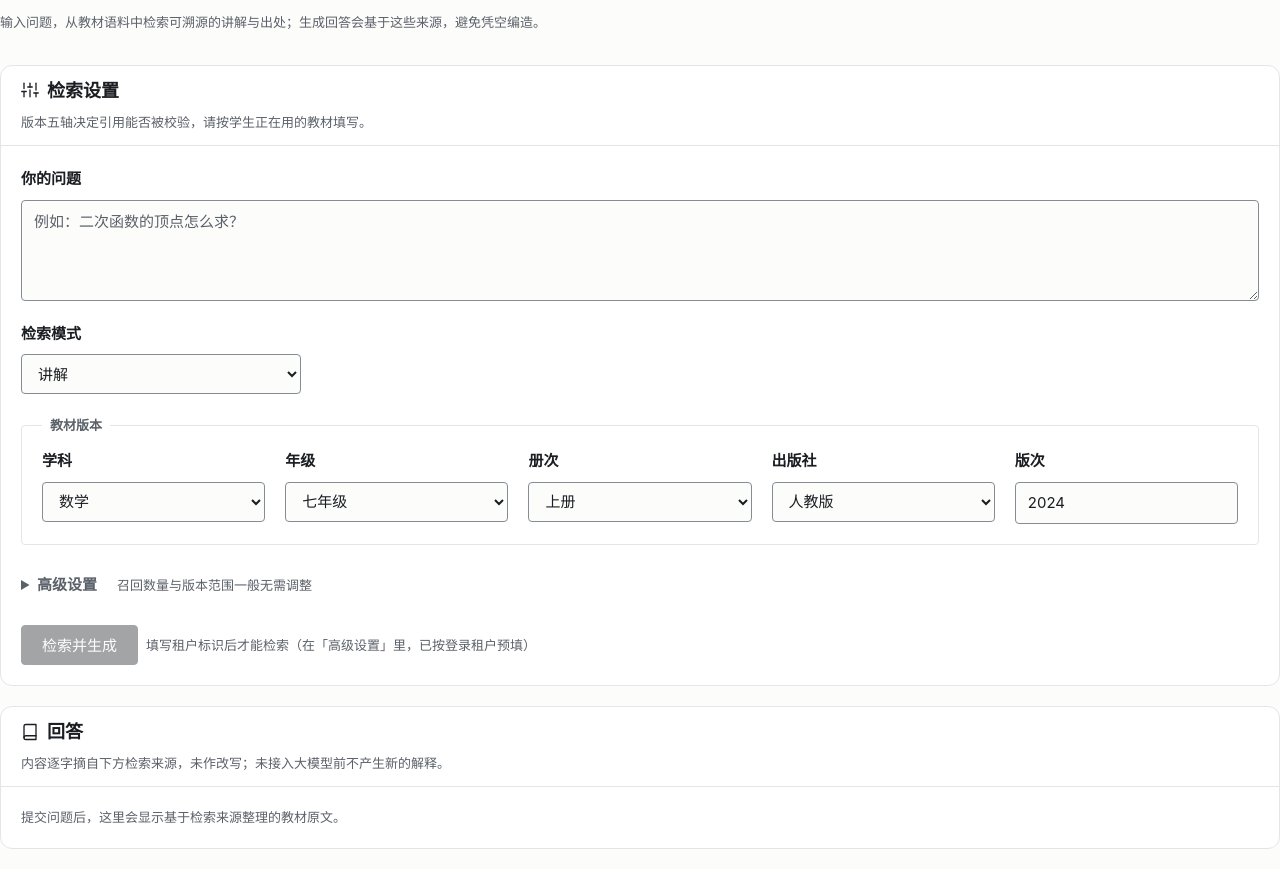
Test case: 知识检索页（FE-RAG 接线） › ⛔ 反证：改 mock 命中文本 → UI 必须跟着变
Type "直角三角形边长关系" into the text box labelled "你的问题" at {"x": 640, "y": 250}, box [21,200,1259,301]
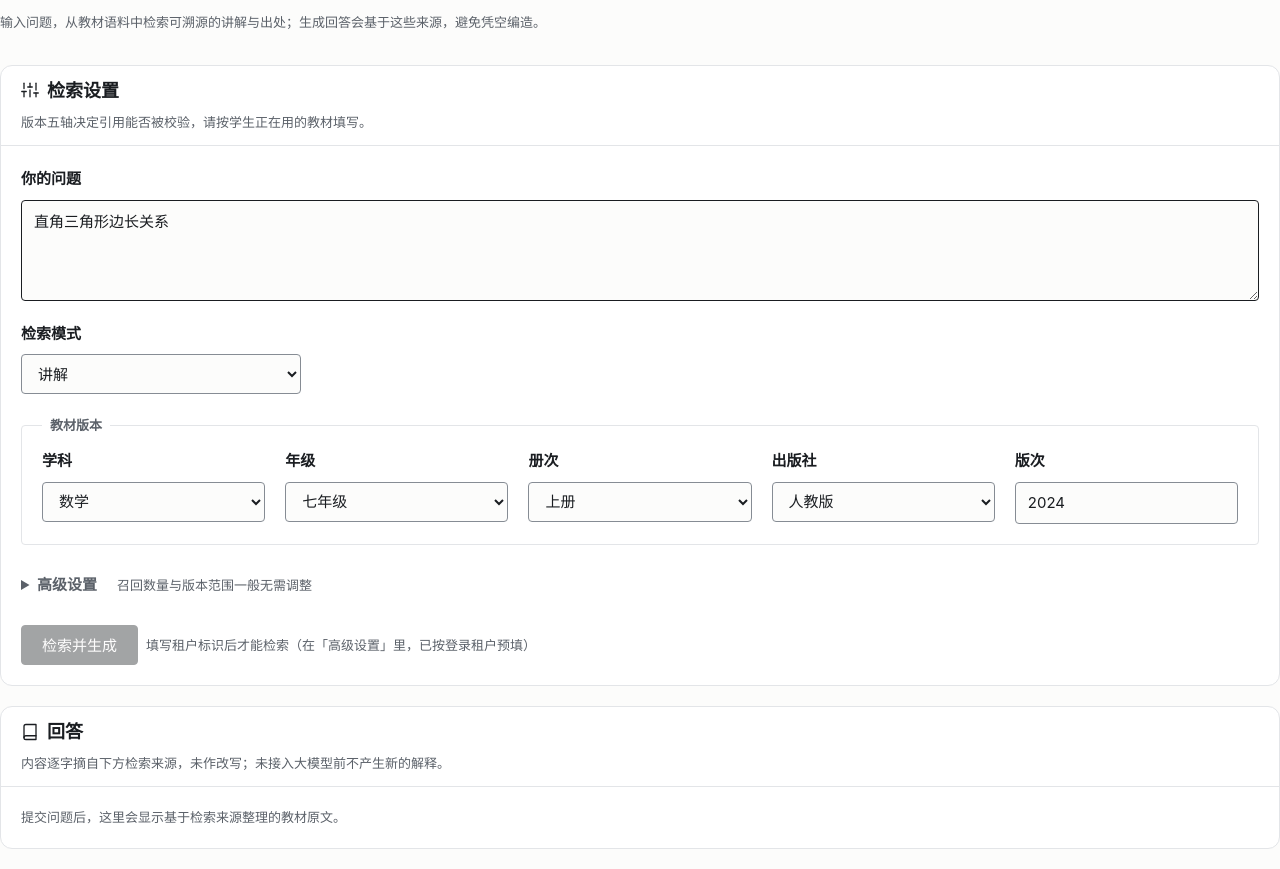
Click the heading "高级设置" at {"x": 67, "y": 584}, box [37,575,97,594]
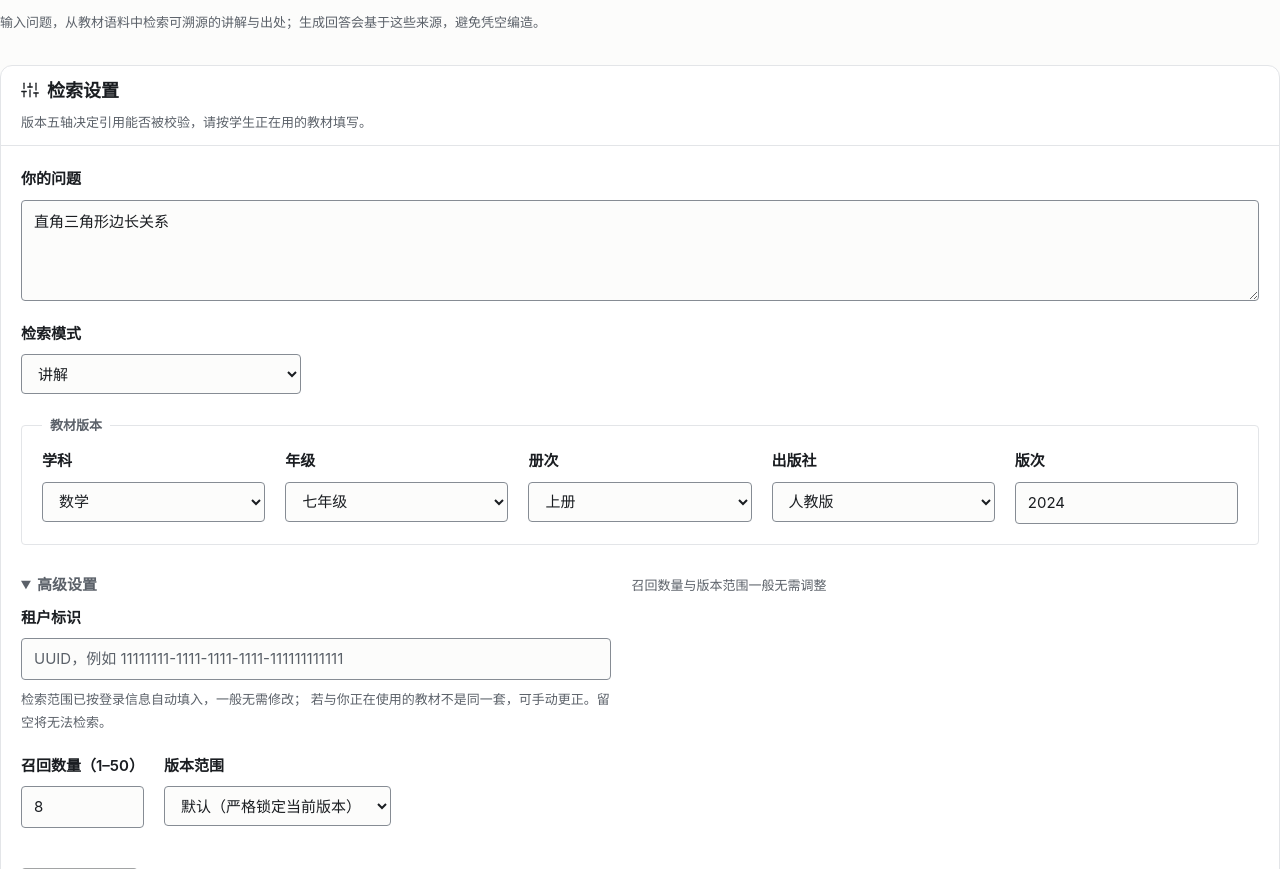
Type "11111111-1111-1111-1111-111111111111" into the field labelled "租户标识" at {"x": 316, "y": 659}, box [21,638,612,680]
(page scrolled)
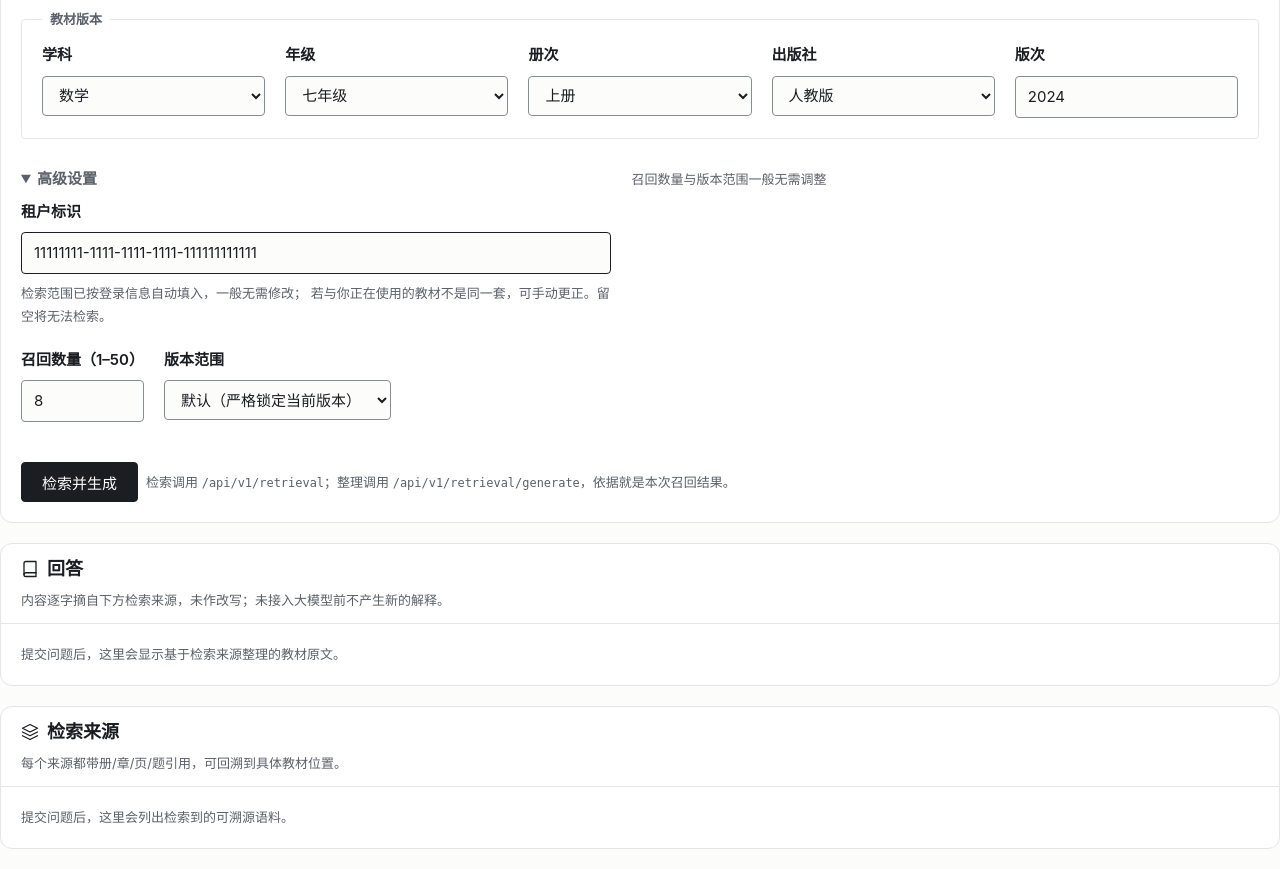
Click the button "检索并生成" at {"x": 80, "y": 482}, box [21,462,138,502]
(page scrolled)
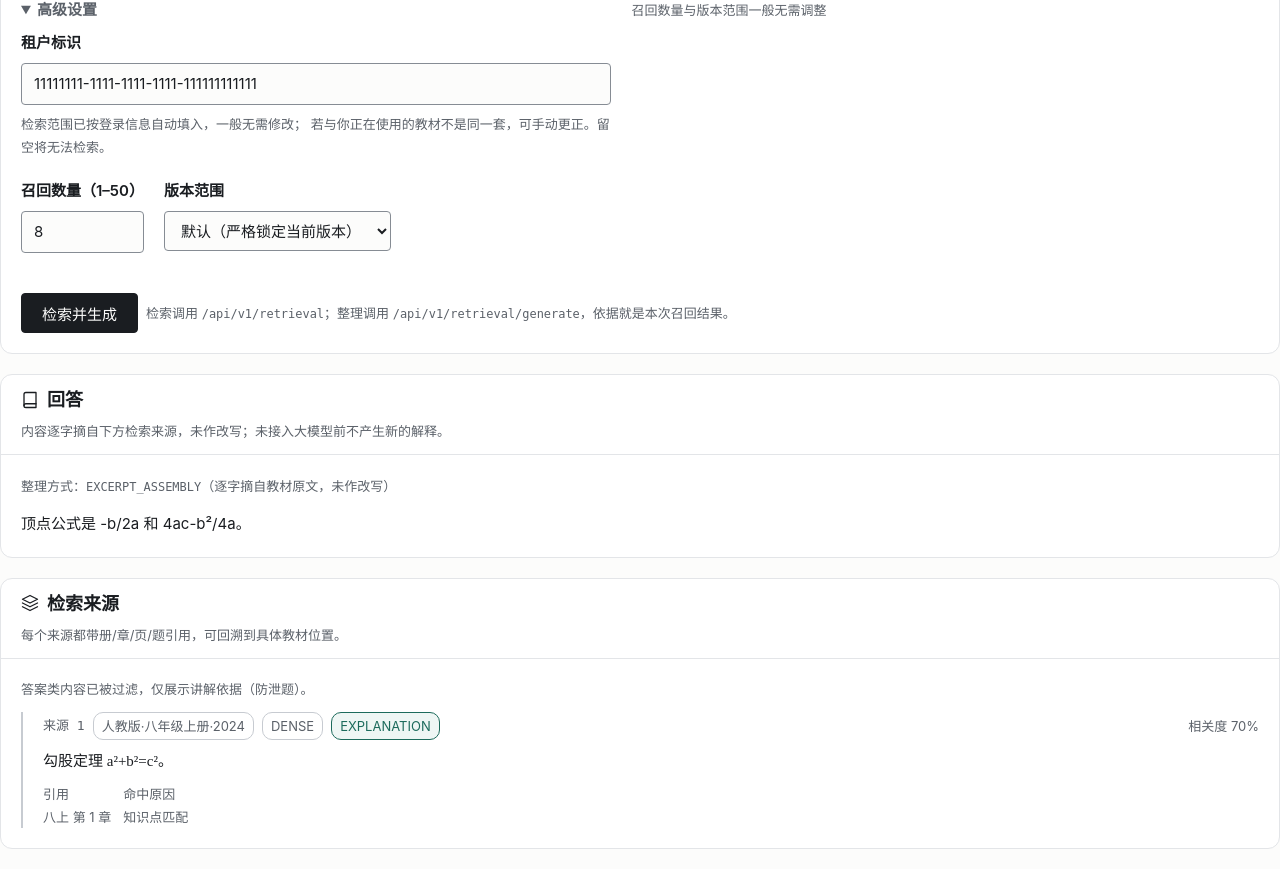
Now the text "勾股定理 a²+b²=c²。" is shown, box [43,753,173,769]
